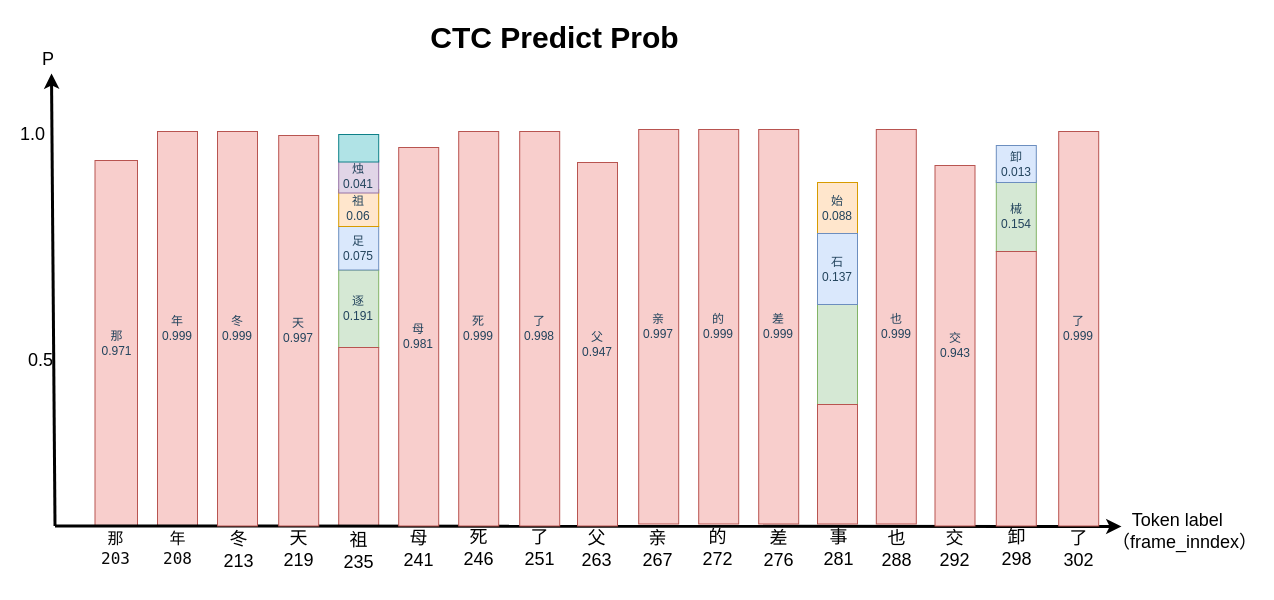
Image size: 1274x600. Some labels were removed from this diagram. The centre of each missing label's shape, as x and y in pixels:
"事 0.367" belongs at point 837,354.
"使 0.389" belongs at point 837,464.
"族 0.042" belongs at point 358,148.
"竹 0.541" belongs at point 358,436.
"谢 0.816" belongs at point 1015,388.
